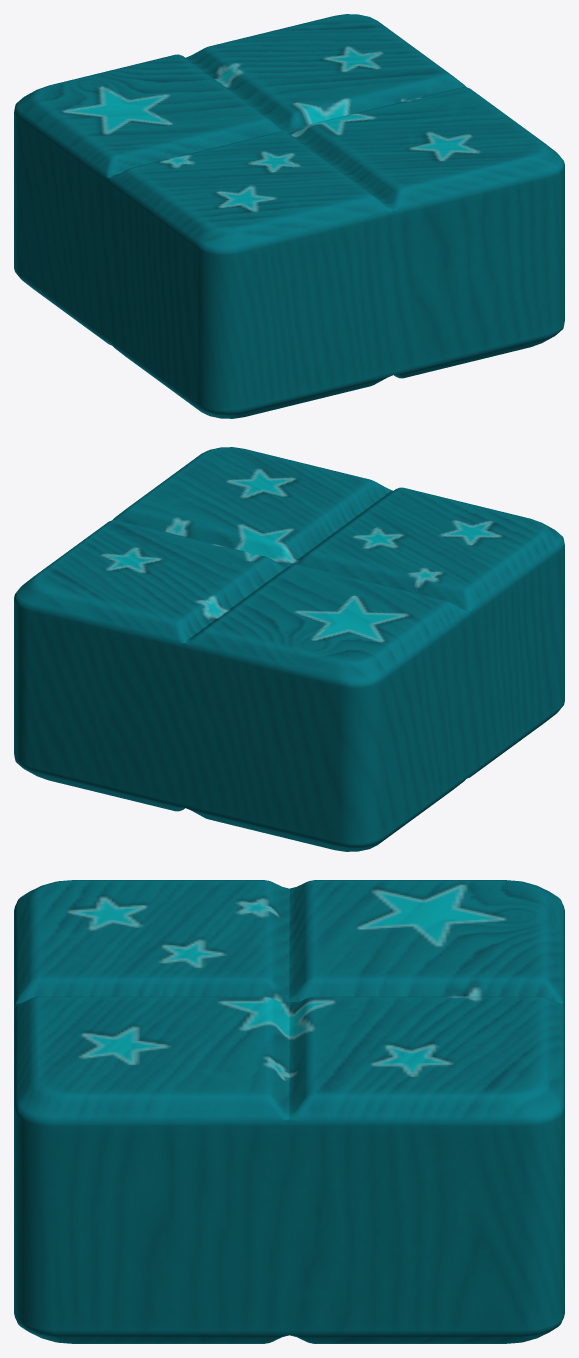
The model's file is Star_Block_04.fbx.
3 views of the same model, one above another, from view 1: azimuth 30°, elevation 25°; view 2: azimuth 150°, elevation 25°; view 3: azimuth 270°, elevation 25° (orthographic). The views are drawn at different scales.
Parts seen in each view (by area): view 1: Star_Block_04; view 2: Star_Block_04; view 3: Star_Block_04.
Part boxes in pixels (x1,y1,x2,y2): Star_Block_04: (14, 14, 564, 418); Star_Block_04: (14, 447, 564, 851); Star_Block_04: (14, 880, 564, 1343).
Size of the model in its own units: 2 by 1 by 2.
1 material, 1 textured.
